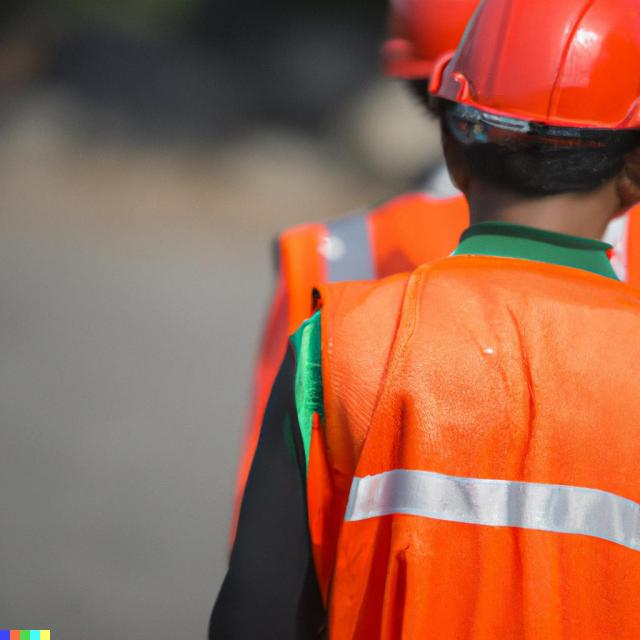Reflective-Jacket: (281, 234, 640, 640)
Safety-Helmet: (429, 0, 640, 144)
